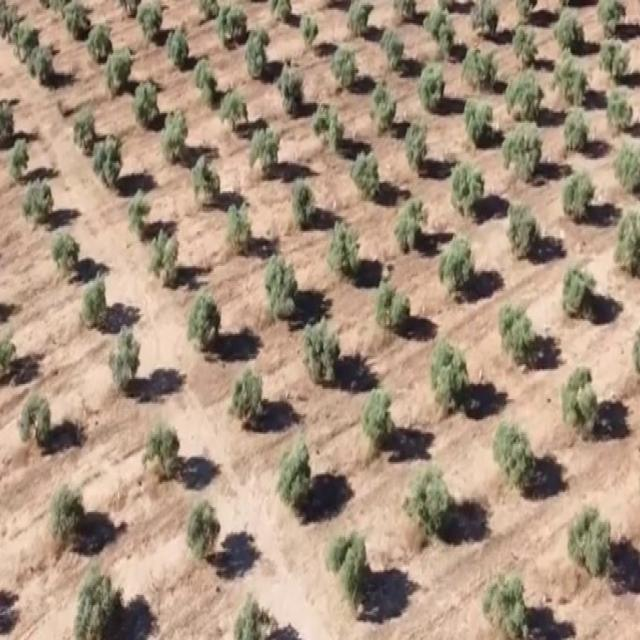trees: (313, 500, 378, 612), (412, 316, 475, 414), (564, 481, 618, 589), (292, 303, 347, 395), (550, 247, 607, 328), (276, 434, 325, 518), (136, 414, 187, 494), (491, 410, 538, 496), (550, 345, 604, 419), (408, 448, 453, 536), (432, 233, 482, 312), (180, 488, 227, 569), (74, 571, 129, 640), (12, 380, 58, 462), (106, 316, 146, 410), (481, 573, 535, 639), (316, 207, 364, 279), (492, 289, 544, 355), (382, 192, 427, 265), (48, 470, 88, 550), (364, 276, 414, 340), (357, 378, 399, 452), (284, 165, 326, 237), (220, 188, 260, 261), (265, 246, 301, 327), (304, 92, 351, 154), (232, 363, 270, 438), (48, 216, 89, 285), (75, 265, 115, 333), (501, 195, 542, 261), (497, 123, 543, 181), (145, 221, 182, 290), (556, 168, 602, 223), (248, 110, 283, 181), (554, 103, 595, 163), (448, 150, 489, 210), (349, 132, 384, 202), (362, 73, 402, 134), (504, 63, 547, 119), (183, 294, 232, 343), (160, 96, 193, 163), (460, 95, 499, 151), (401, 110, 433, 178), (4, 121, 38, 184), (550, 56, 591, 108), (272, 60, 310, 116), (613, 208, 640, 286), (327, 34, 364, 90), (422, 5, 457, 64), (185, 152, 221, 207), (415, 61, 455, 110), (88, 129, 125, 181), (605, 141, 639, 197), (214, 83, 252, 133), (20, 174, 58, 223), (244, 21, 274, 81), (218, 0, 250, 52), (599, 41, 635, 87), (124, 186, 155, 237), (294, 7, 325, 58), (106, 42, 134, 96), (190, 54, 218, 108), (462, 47, 495, 92), (132, 76, 160, 128), (601, 86, 634, 130), (509, 20, 540, 65), (135, 0, 166, 43), (342, 0, 373, 43), (555, 6, 587, 47), (594, 0, 628, 36), (379, 23, 407, 66), (171, 17, 195, 67), (90, 15, 118, 57), (38, 35, 60, 86), (68, 0, 96, 40), (70, 108, 96, 151), (472, 0, 504, 31), (13, 17, 40, 51)
